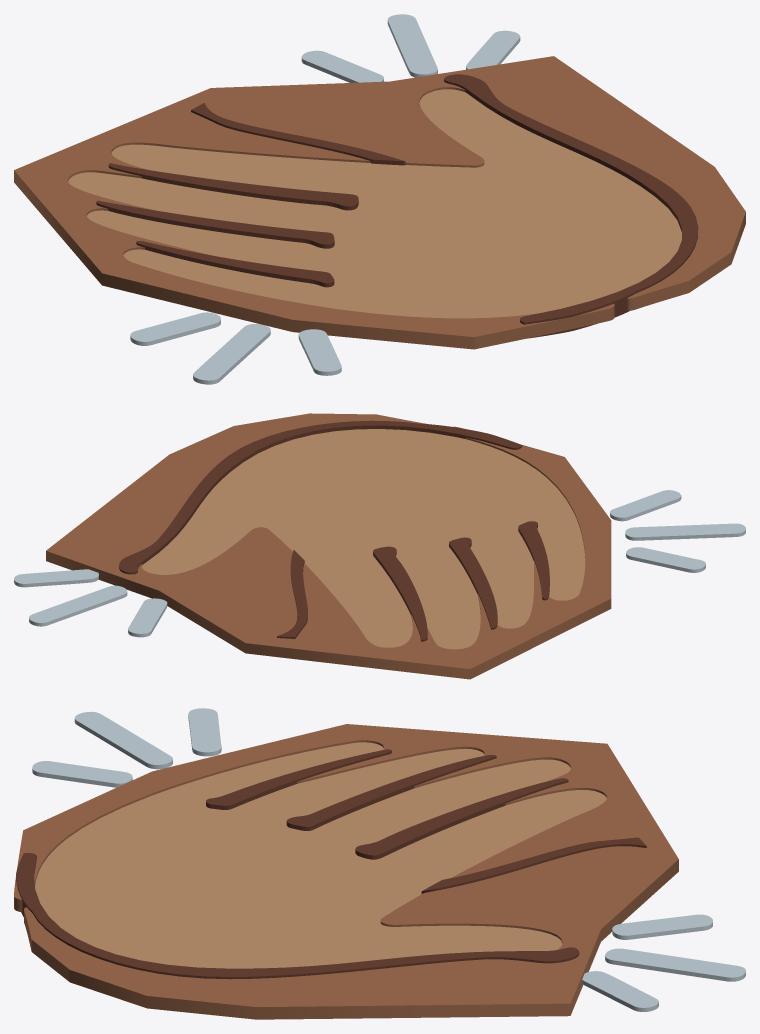
File: emoji_u1f44f_1f3fd.glb
3 renders of one model, top to bottom at view 1: azimuth 30°, elevation 25°; view 2: azimuth 150°, elevation 25°; view 3: azimuth 270°, elevation 25°, orthographic. The views are drawn at different scales.
Parts seen in each view (by area): view 1: emoji_u1f44f_1f3fd; view 2: emoji_u1f44f_1f3fd; view 3: emoji_u1f44f_1f3fd.
Part boxes in pixels (x1,y1,x2,y2): emoji_u1f44f_1f3fd: (14, 14, 745, 384); emoji_u1f44f_1f3fd: (14, 413, 745, 679); emoji_u1f44f_1f3fd: (14, 708, 745, 1019).
Size of the model in its own units: 0.0311 by 0.0008 by 0.0318.
